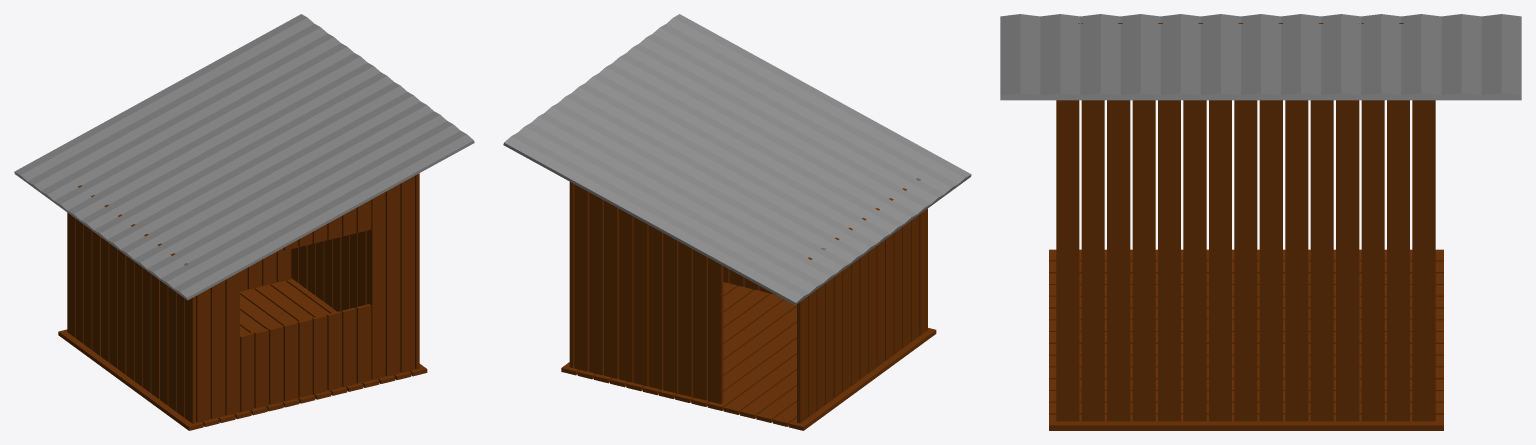
Rendered from Changarrito.fbx.
The picture shows the model from 3 angles, left to right: view 1: azimuth 30°, elevation 25°; view 2: azimuth 150°, elevation 25°; view 3: azimuth 270°, elevation 25°; orthographic projection. The views are drawn at different scales.
Parts seen in each view (by area): view 1: Plane.256; view 2: Plane.256; view 3: Plane.256.
Boxes of the visible parts, x1,y1,x2,y2 form: Plane.256: (14,14,474,430); Plane.256: (503,14,971,430); Plane.256: (1000,14,1521,430).
Size of the model in its own units: 2174 by 1717 by 2255.
